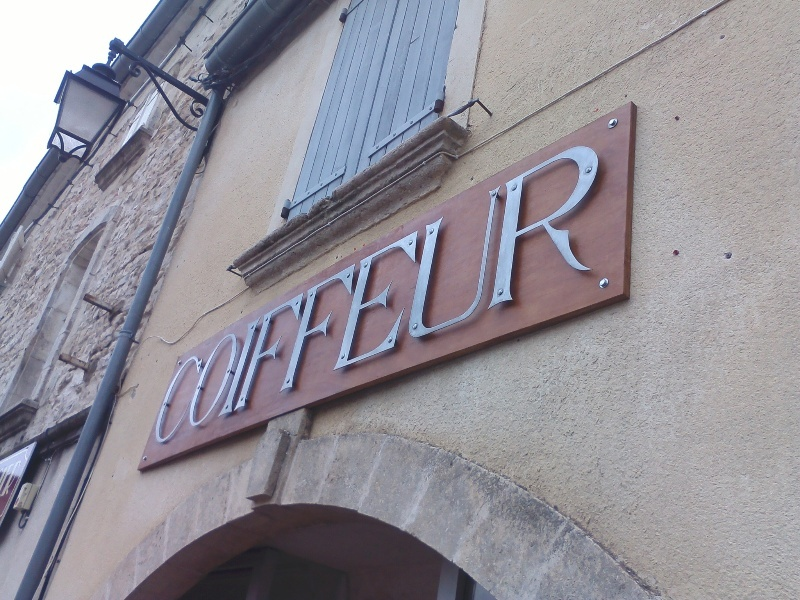text: (177, 123, 192, 452), (193, 123, 208, 452), (209, 123, 224, 452), (225, 123, 240, 452), (241, 123, 256, 452), (257, 123, 272, 452), (273, 123, 288, 452), (289, 123, 304, 452), (305, 123, 320, 452), (321, 123, 336, 452), (337, 123, 352, 452), (353, 123, 368, 452), (369, 123, 384, 452), (385, 123, 400, 452), (401, 123, 416, 452), (417, 123, 432, 452), (433, 123, 448, 452), (449, 123, 464, 452), (465, 123, 480, 452), (481, 123, 496, 452), (497, 123, 512, 452), (513, 123, 528, 452), (529, 123, 544, 452), (545, 123, 560, 452), (561, 123, 576, 452), (577, 123, 592, 452), (593, 123, 605, 452), (1, 460, 16, 498), (17, 460, 24, 498)
